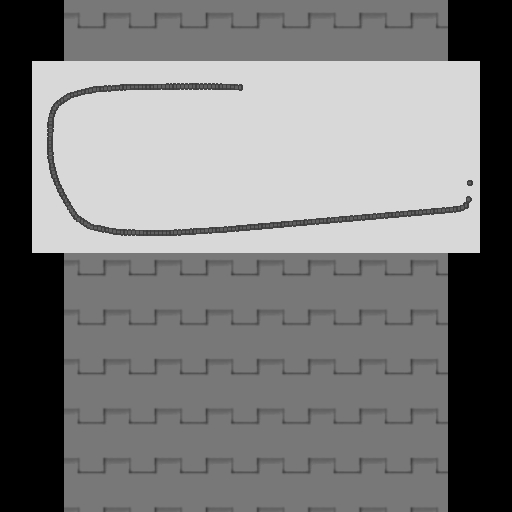Defect: (242, 78, 459, 129)
